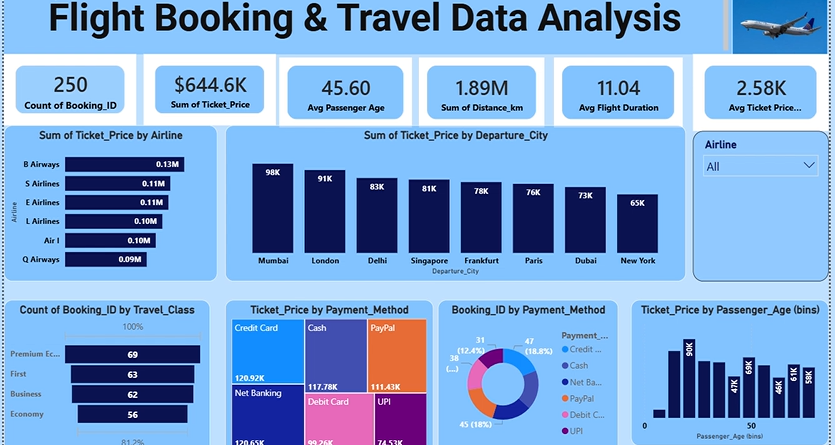

The dashboard page shown, as its layout file describes it:
{"tool":"powerbi","page":{"name":"Page 1","canvas":[1280,720],"ordinal":0},"visuals":[{"type":"textbox","box":[0,0,1129.7,97.7],"z":0},{"type":"image","box":[1129.7,0,150.7,97.7],"z":1000},{"type":"cardVisual","fields":{"Data":["Count(flight_bookings_sample.Booking_ID)"]},"box":[0,97.7,205.4,111],"z":2000},{"type":"cardVisual","fields":{"Data":["Sum(flight_bookings_sample.Ticket_Price)"]},"box":[217,97.7,205.4,111],"z":3000},{"type":"cardVisual","fields":{"Data":["Avg(flight_bookings_sample.Passenger_Age)"]},"box":[422.4,97.7,217,119.3],"z":4000},{"type":"cardVisual","fields":{"Data":["Sum(flight_bookings_sample.Distance_km)"]},"box":[639.4,97.7,205.4,119.3],"z":5000},{"type":"cardVisual","fields":{"Data":["Avg(flight_bookings_sample.Flight_Duration_hr)"]},"box":[848.1,97.7,210.4,119.3],"z":6000},{"type":"cardVisual","fields":{"Data":["flight_bookings_sample.Avg Ticket Price Measure"]},"box":[1070.1,97.7,210.4,119.3],"z":7000},{"type":"clusteredBarChart","fields":{"Category":["flight_bookings_sample.Airline"],"Y":["Sum(flight_bookings_sample.Ticket_Price)"]},"box":[0,208.7,331.3,241.8],"z":8000},{"type":"columnChart","fields":{"Y":["Sum(flight_bookings_sample.Ticket_Price)"],"Category":["flight_bookings_sample.Departure_City"]},"box":[342.9,208.7,715.6,241.8],"z":9000},{"type":"funnel","fields":{"Category":["flight_bookings_sample.Travel_Class"],"Y":["CountNonNull(flight_bookings_sample.Booking_ID)"]},"box":[0,478.7,319.7,241.8],"z":10000},{"type":"treemap","fields":{"Group":["flight_bookings_sample.Payment_Method"],"Values":["Sum(flight_bookings_sample.Ticket_Price)"]},"box":[342.9,478.7,323,241.8],"z":11000},{"type":"donutChart","fields":{"Category":["flight_bookings_sample.Payment_Method"],"Y":["CountNonNull(flight_bookings_sample.Booking_ID)"]},"box":[674.2,478.7,279.9,241.8],"z":12000},{"type":"columnChart","fields":{"Y":["Sum(flight_bookings_sample.Ticket_Price)"],"Category":["flight_bookings_sample.Passenger_Age (bins)"]},"box":[974,478.7,306.4,226.9],"z":13000},{"type":"cardVisual","fields":{"Data":["flight_bookings_sample.Avg Ticket Price Measure"]},"box":[1069.6,97.7,210.4,119.3],"z":14000},{"type":"slicer","fields":{"Values":["flight_bookings_sample.Airline"]},"box":[1070.1,217,210.4,233.6],"z":15000}]}

Visuals, with their boxes on the page's 1280x720 design canvas (x1, y1, x2, y2). These are canvas units, not pixel positions in the 835x445 screenshot, which may show the page scaled, cropped or inside an application window:
textbox: <region>0, 0, 1130, 98</region>
image: <region>1130, 0, 1280, 98</region>
cardVisual - Count(flight_bookings_sample.Booking_ID): <region>0, 98, 205, 209</region>
cardVisual - Sum(flight_bookings_sample.Ticket_Price): <region>217, 98, 422, 209</region>
cardVisual - Avg(flight_bookings_sample.Passenger_Age): <region>422, 98, 639, 217</region>
cardVisual - Sum(flight_bookings_sample.Distance_km): <region>639, 98, 845, 217</region>
cardVisual - Avg(flight_bookings_sample.Flight_Duration_hr): <region>848, 98, 1058, 217</region>
cardVisual - flight_bookings_sample.Avg Ticket Price Measure: <region>1070, 98, 1280, 217</region>
clusteredBarChart - flight_bookings_sample.Airline x Sum(flight_bookings_sample.Ticket_Price): <region>0, 209, 331, 450</region>
columnChart - Sum(flight_bookings_sample.Ticket_Price) x flight_bookings_sample.Departure_City: <region>343, 209, 1058, 450</region>
funnel - flight_bookings_sample.Travel_Class x CountNonNull(flight_bookings_sample.Booking_ID): <region>0, 479, 320, 720</region>
treemap - flight_bookings_sample.Payment_Method x Sum(flight_bookings_sample.Ticket_Price): <region>343, 479, 666, 720</region>
donutChart - flight_bookings_sample.Payment_Method x CountNonNull(flight_bookings_sample.Booking_ID): <region>674, 479, 954, 720</region>
columnChart - Sum(flight_bookings_sample.Ticket_Price) x flight_bookings_sample.Passenger_Age (bins): <region>974, 479, 1280, 706</region>
cardVisual - flight_bookings_sample.Avg Ticket Price Measure: <region>1070, 98, 1280, 217</region>
slicer - flight_bookings_sample.Airline: <region>1070, 217, 1280, 451</region>
